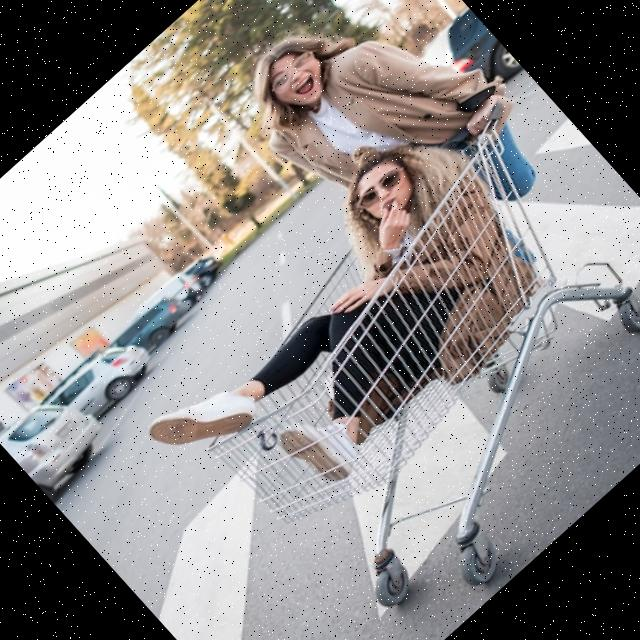Person: (101, 96, 579, 562), (217, 0, 569, 302)
